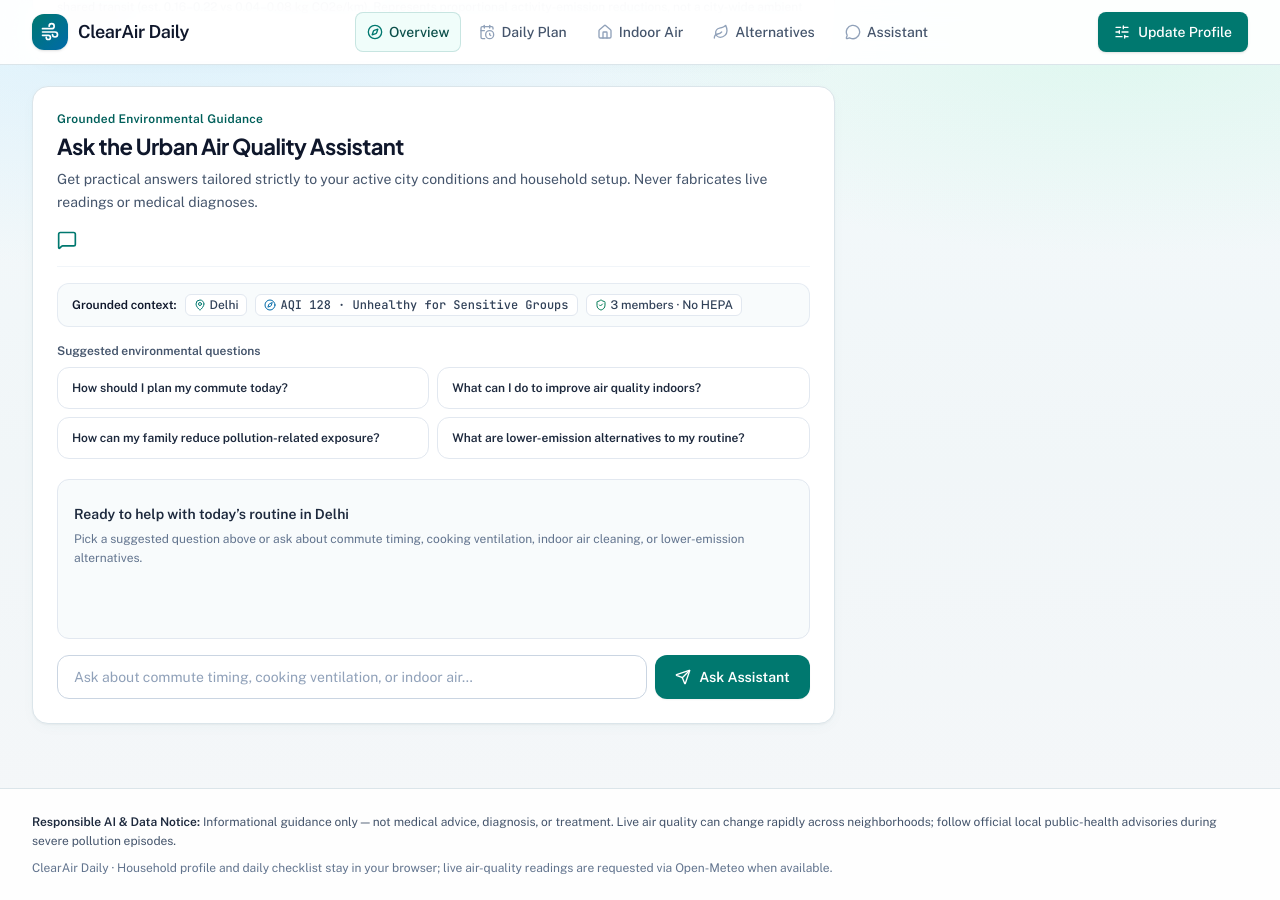
ClearAir Daily UI flows › recovers safely from malformed or XSS-tainted localStorage state and escapes HTML-like assistant output
(page scrolled)
Replace the text in the field named "Ask a question about air quality" with "Is indoor air safe?" at (352, 677), box [57,655,647,699]
(page scrolled)
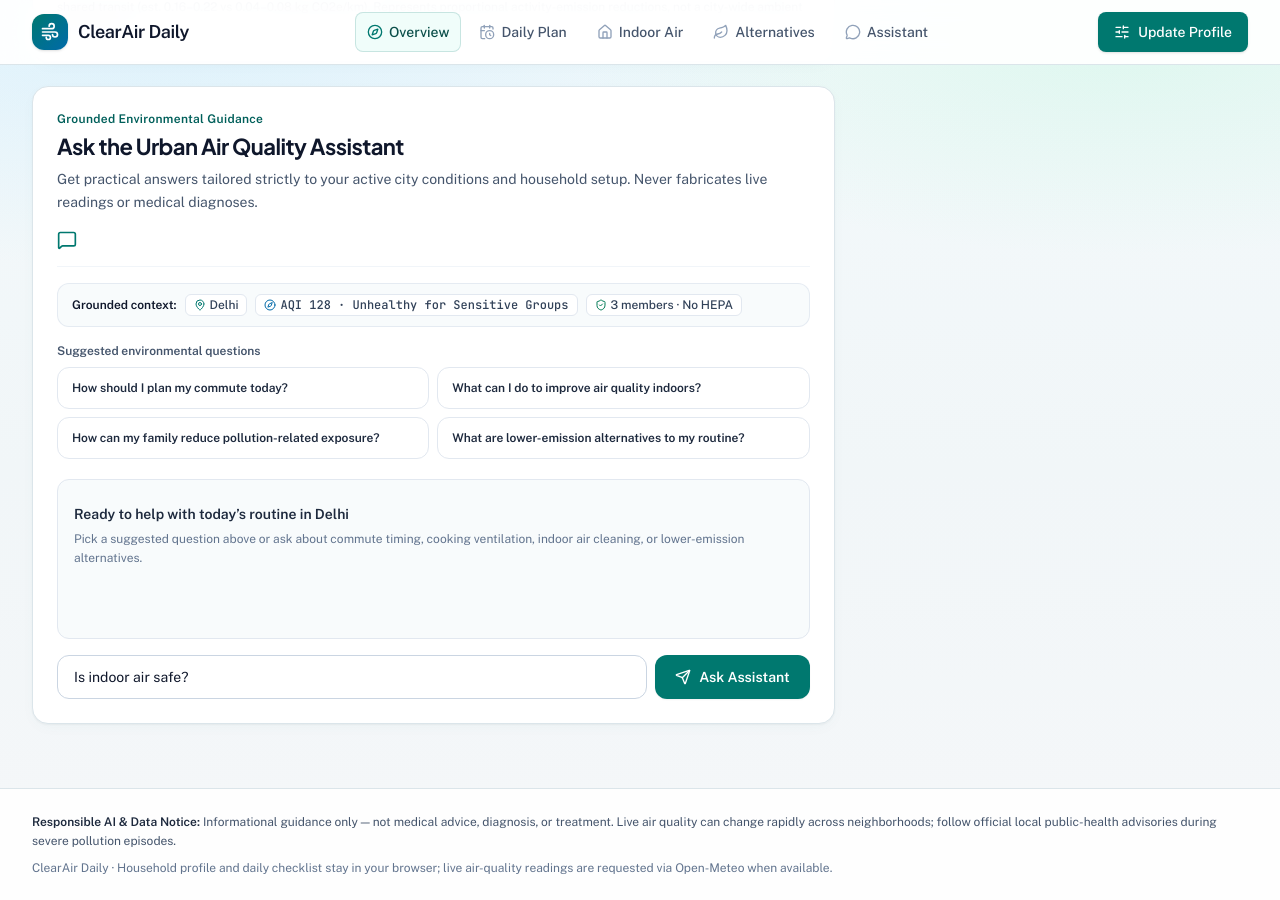
Click the button "Ask Assistant" at (732, 677), box [655,655,810,699]
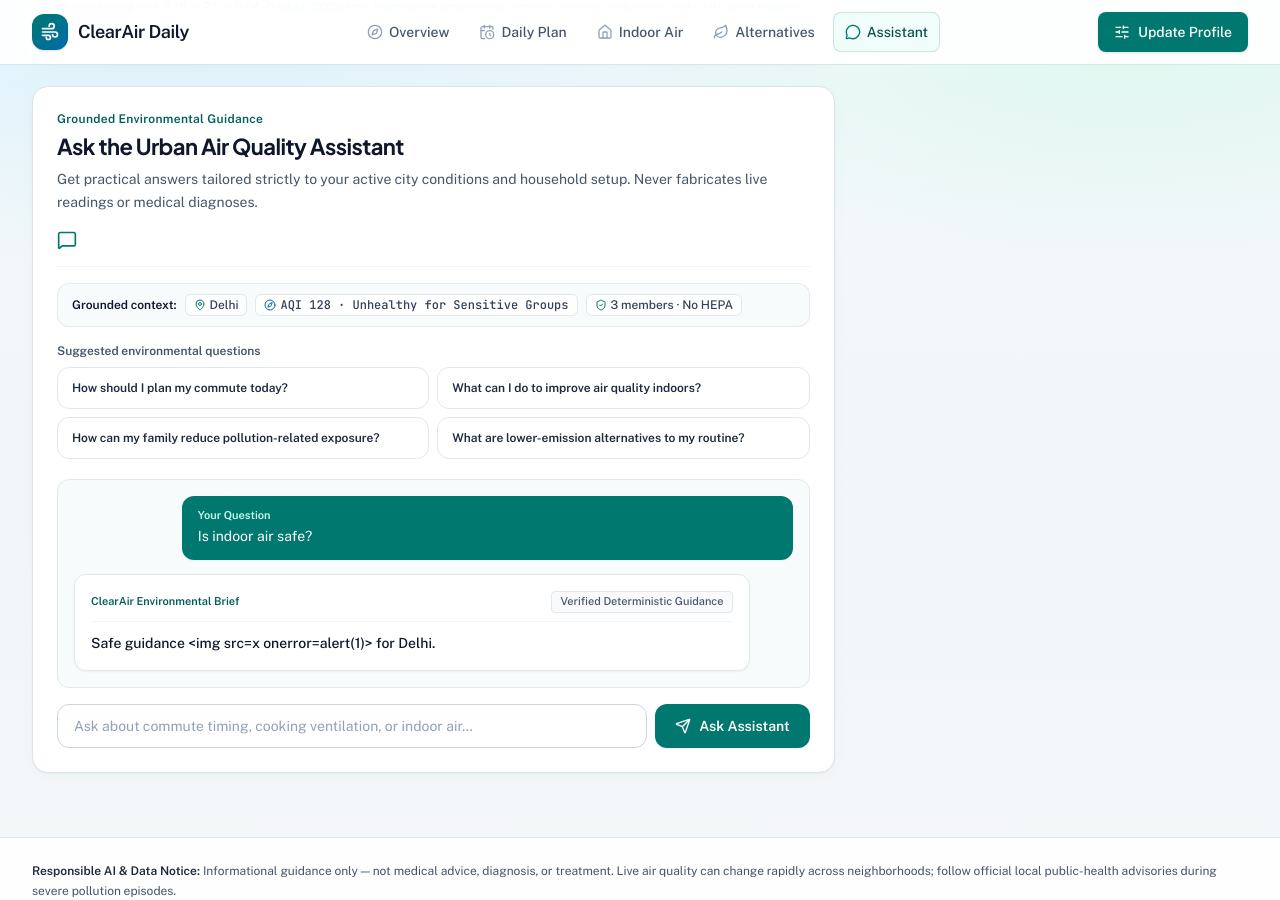
Result: the text "Safe guidance <img src=x onerror=alert(1)> for Delhi." is shown at [91,635,435,651]
